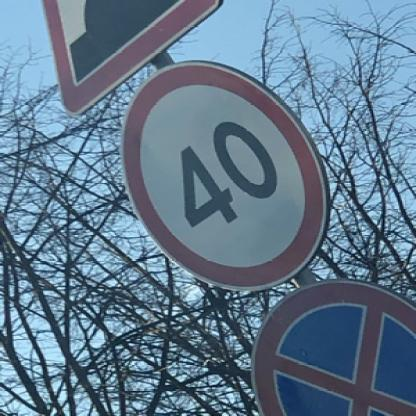Speed Limit 40: (126, 62, 322, 286)
